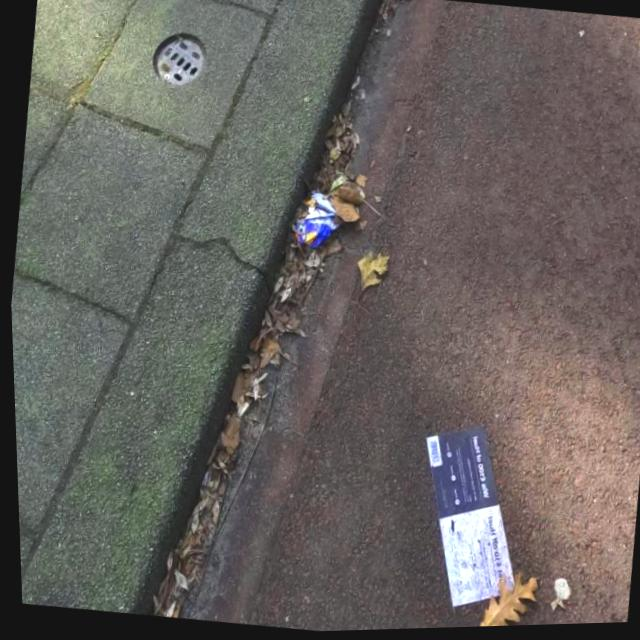Plastic: (284, 189, 345, 256)
